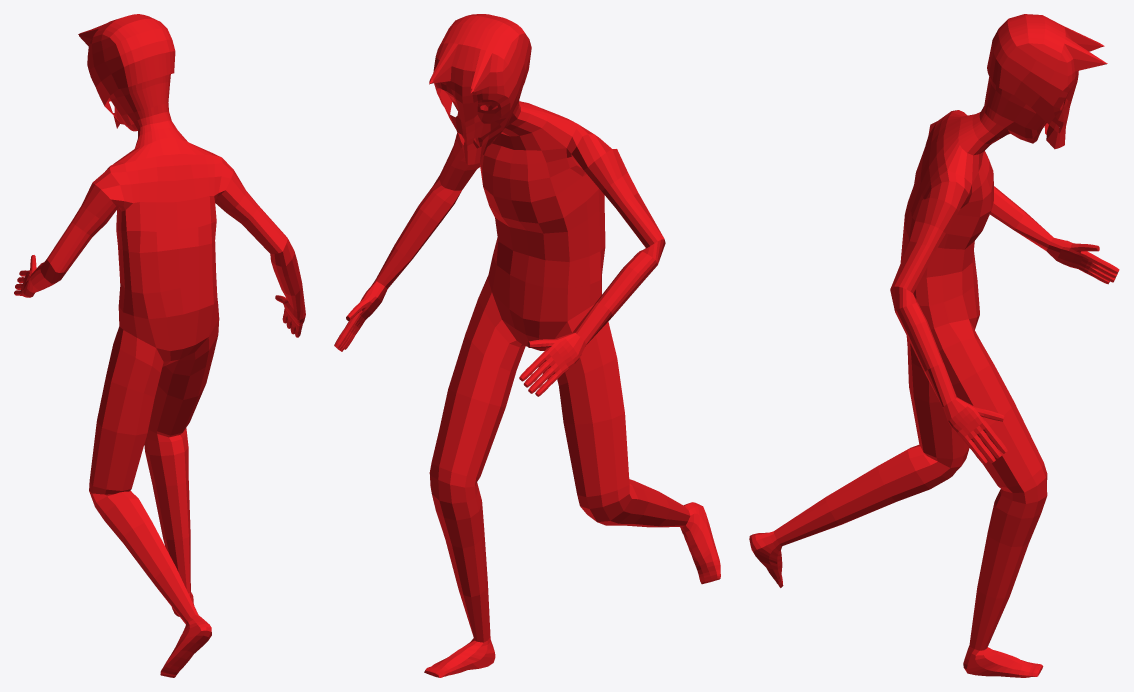
The model's file is marchaE_000057.obj.
The picture shows the model from 3 angles, left to right: view 1: azimuth 30°, elevation 25°; view 2: azimuth 150°, elevation 25°; view 3: azimuth 270°, elevation 25°; orthographic projection. The views are drawn at different scales.
Visible parts, largest first — view 1: Plane.002_Plane.001; view 2: Plane.002_Plane.001; view 3: Plane.002_Plane.001.
Part boxes in pixels (box(x1,y1,x2,y2)): Plane.002_Plane.001: box(14, 14, 305, 677); Plane.002_Plane.001: box(334, 14, 720, 677); Plane.002_Plane.001: box(749, 14, 1119, 677).
Bounding box in the file's own units: 3.14 × 6.58 × 3.46.
